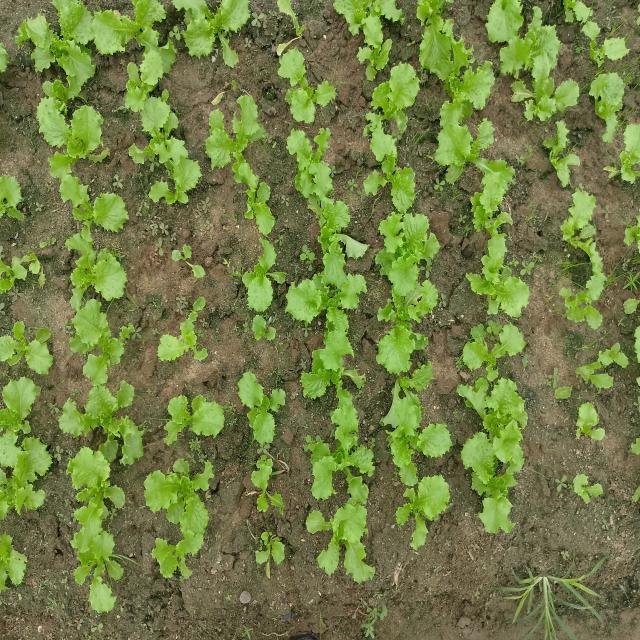Lettuce: (300, 486, 377, 590), (124, 90, 198, 198), (55, 384, 154, 455), (10, 20, 100, 94), (295, 272, 366, 364), (54, 165, 132, 243), (470, 357, 532, 453), (103, 8, 179, 86), (274, 39, 342, 125), (61, 309, 139, 378), (42, 444, 132, 499), (56, 504, 124, 576), (434, 110, 501, 181), (181, 0, 255, 64), (371, 215, 438, 285), (394, 470, 456, 543), (158, 387, 228, 451), (48, 240, 124, 298), (390, 401, 445, 480), (472, 461, 530, 534), (149, 465, 215, 528), (484, 8, 560, 61), (363, 123, 412, 205), (559, 181, 604, 270), (319, 412, 376, 482), (2, 312, 61, 379), (411, 0, 470, 66), (470, 241, 528, 308), (207, 92, 258, 168), (290, 128, 343, 198), (238, 374, 290, 440), (376, 324, 436, 380), (559, 272, 613, 332), (32, 102, 104, 147), (236, 238, 283, 304), (518, 64, 578, 115), (2, 433, 44, 502), (0, 243, 48, 301), (380, 56, 418, 128), (586, 70, 630, 131), (0, 375, 41, 438), (555, 468, 607, 512), (2, 510, 28, 590), (247, 526, 293, 571), (572, 401, 610, 445), (0, 171, 29, 223)
